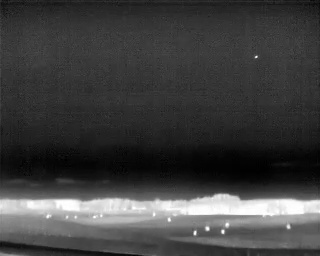BIRD: (252, 52, 260, 61)
